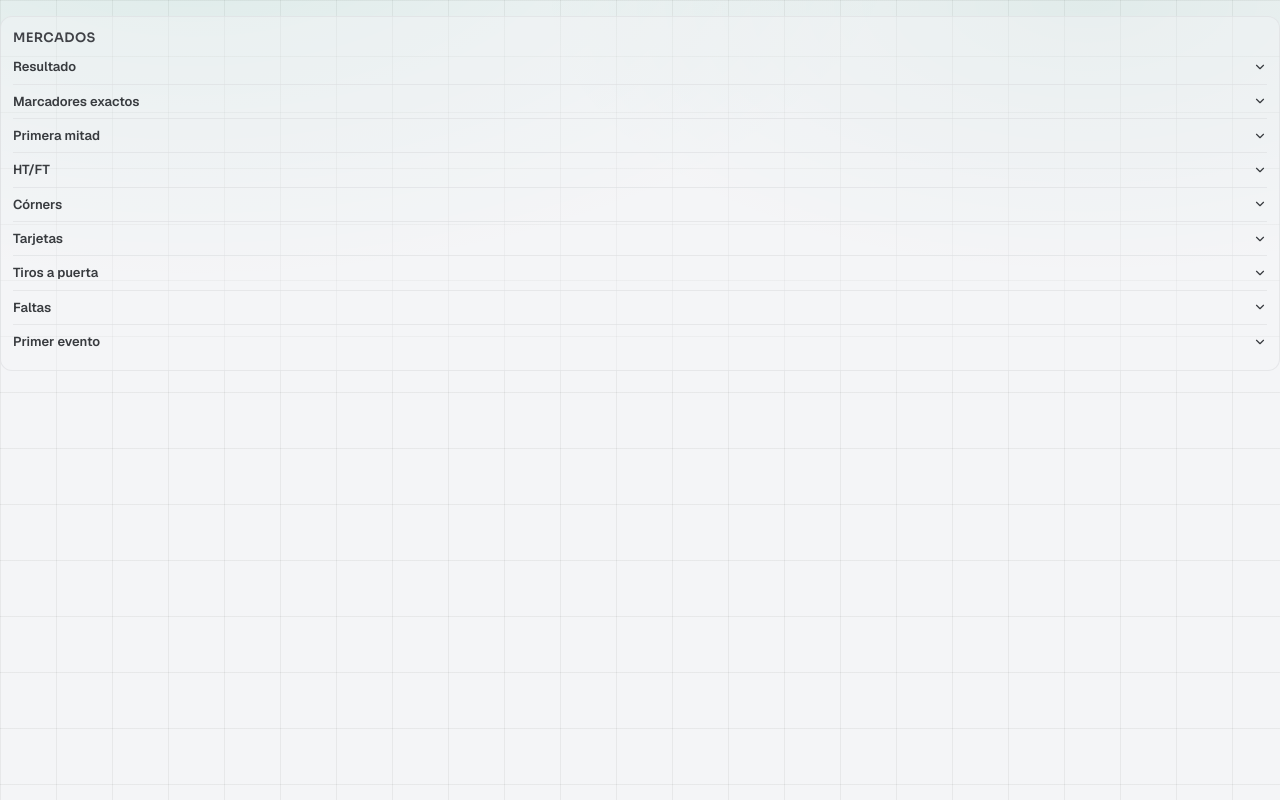
Test: Markets › cierra la seccion abierta al volver a pulsarla
The image size is (1280, 800).
Click the button "Resultado": (45, 67) [13,50,1267,84]
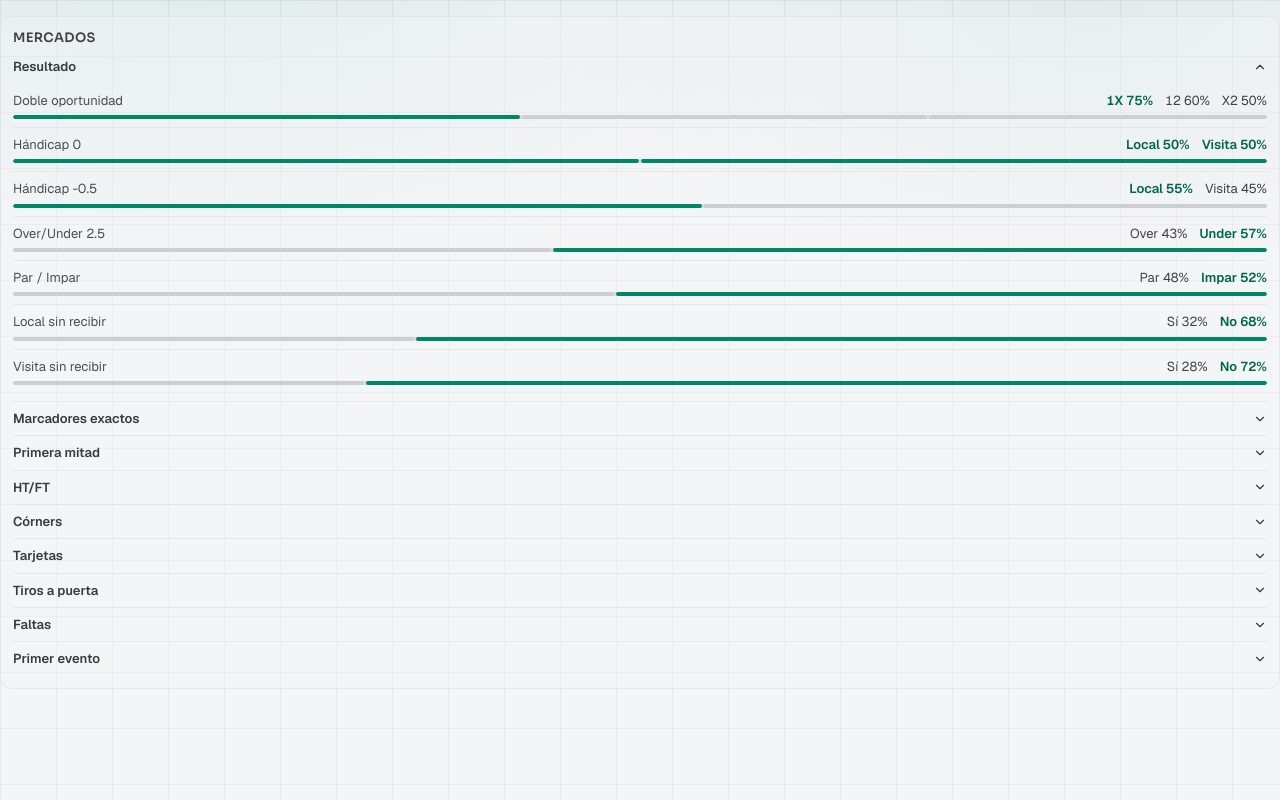
Now the button "Resultado" is expanded
Click the button "Resultado": (45, 67) [13,50,1267,84]
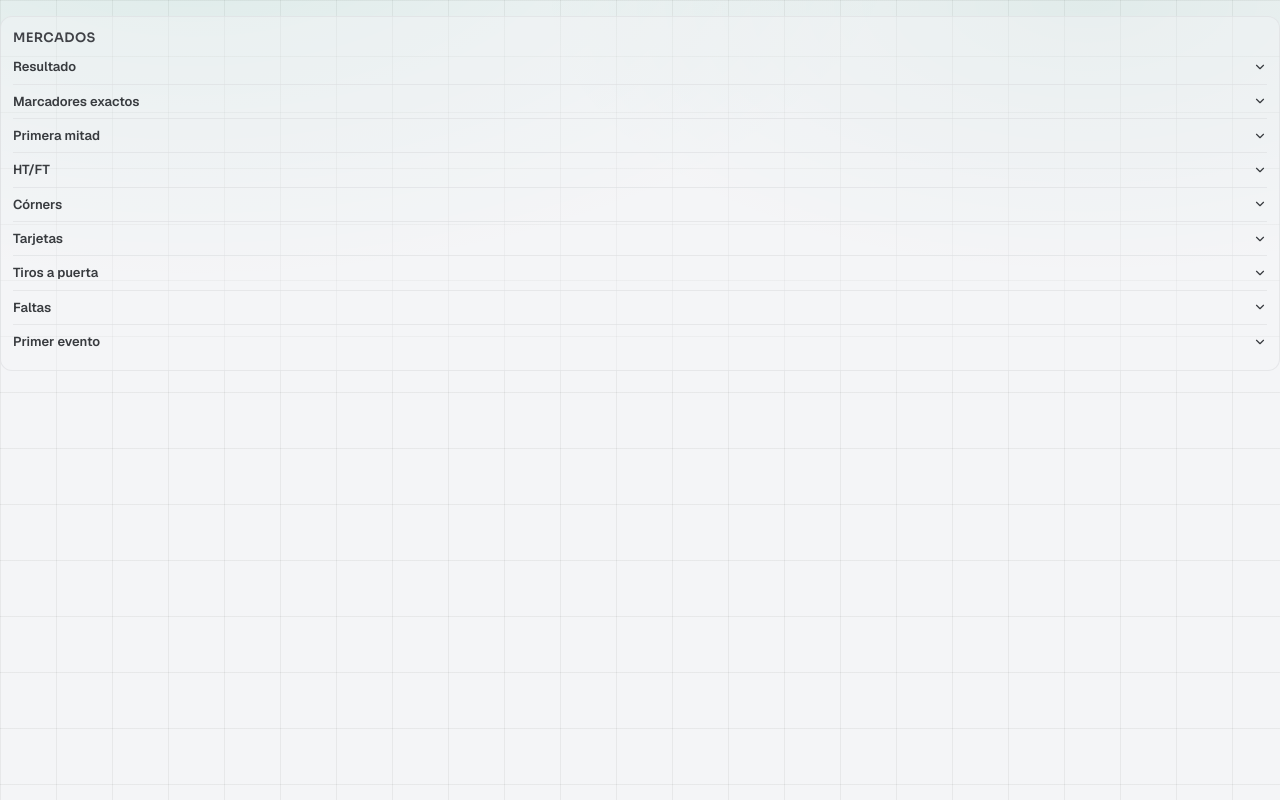
Now the button "Resultado" is collapsed, box [13,50,1267,84]
Now the text "Doble oportunidad" is gone
